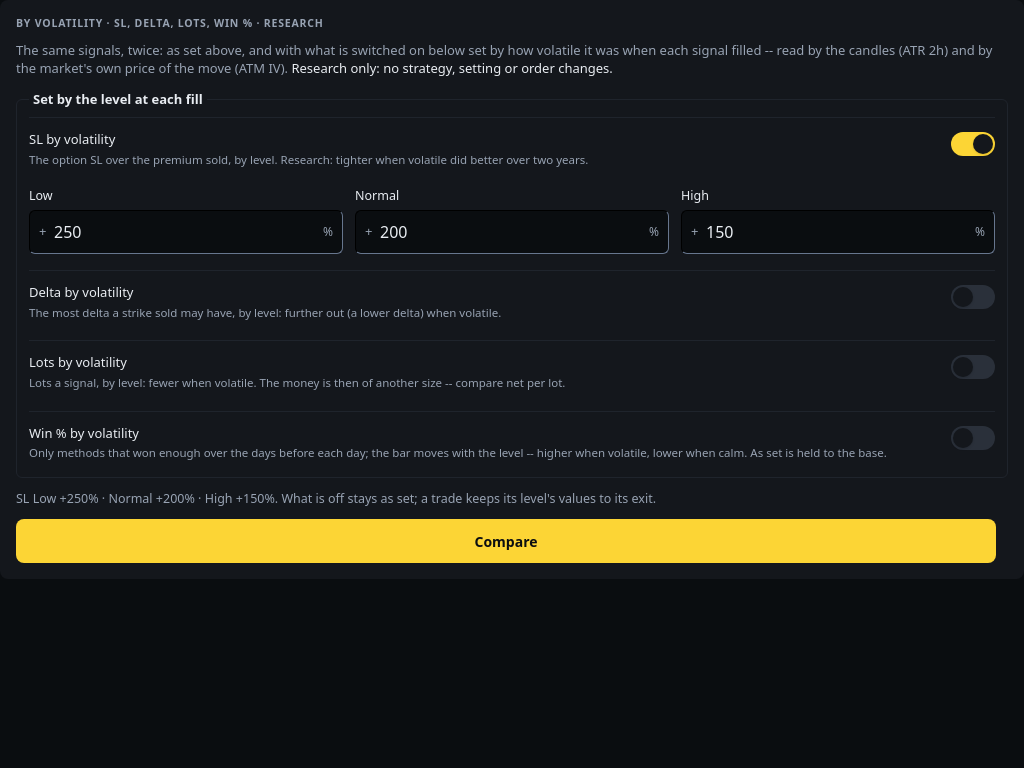
VolStudy › [critical] Compare asks with what is switched on and typed -- what is off is not sent -- and the values are kept in this browser
Replace the text in the number field named "Option SL in high volatility, per cent over the premium" with "120" at (838, 232), box 681,210 -> 995,254
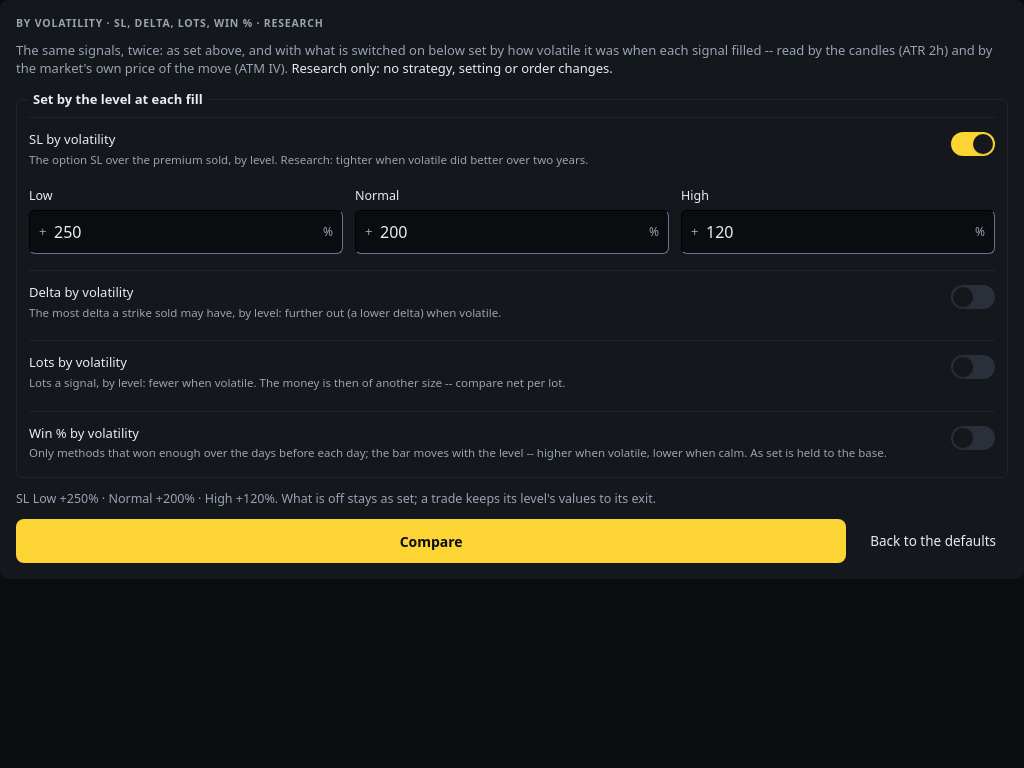
Click the switch named "Lots by volatility" in the row of "Lots by volatility" at (973, 367), box 951,355 -> 995,379
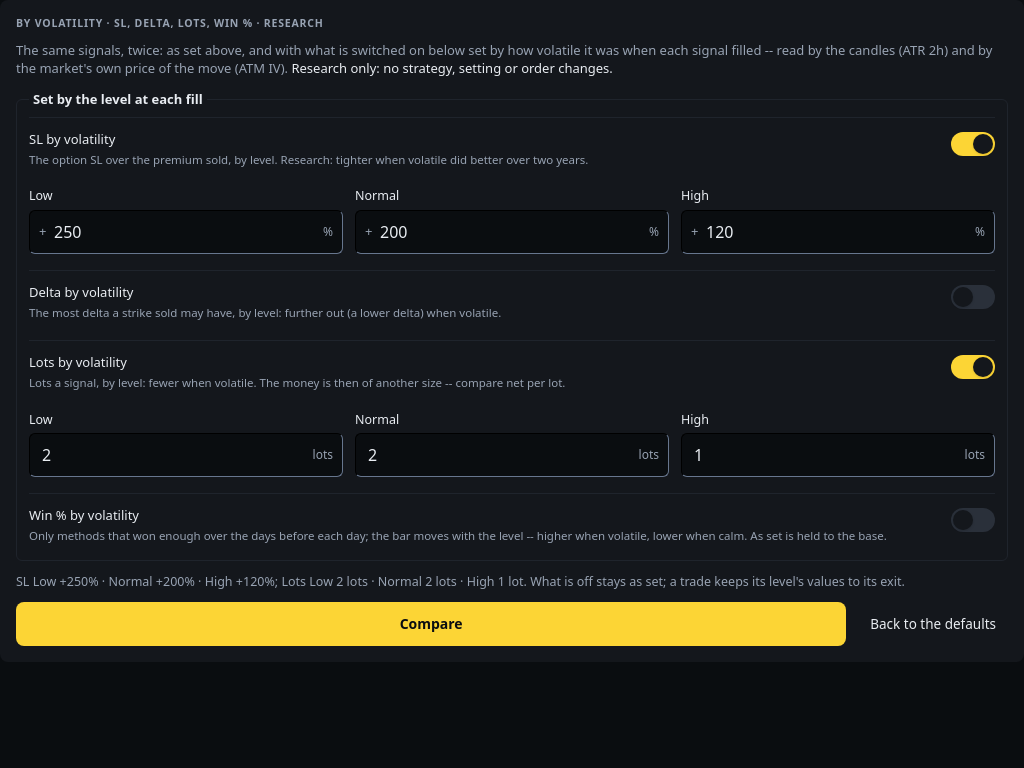
Click the button "Compare" at (431, 624), box 16,602 -> 846,646
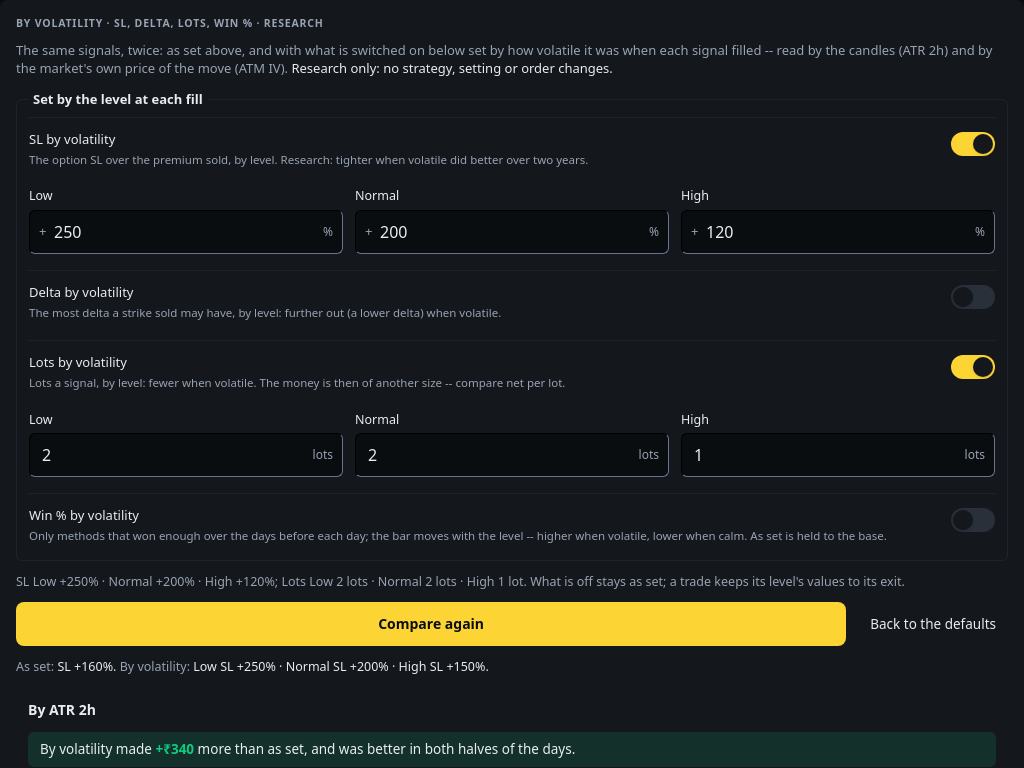
Click the button "Back to the defaults" at (933, 624), box 858,602 -> 1008,646
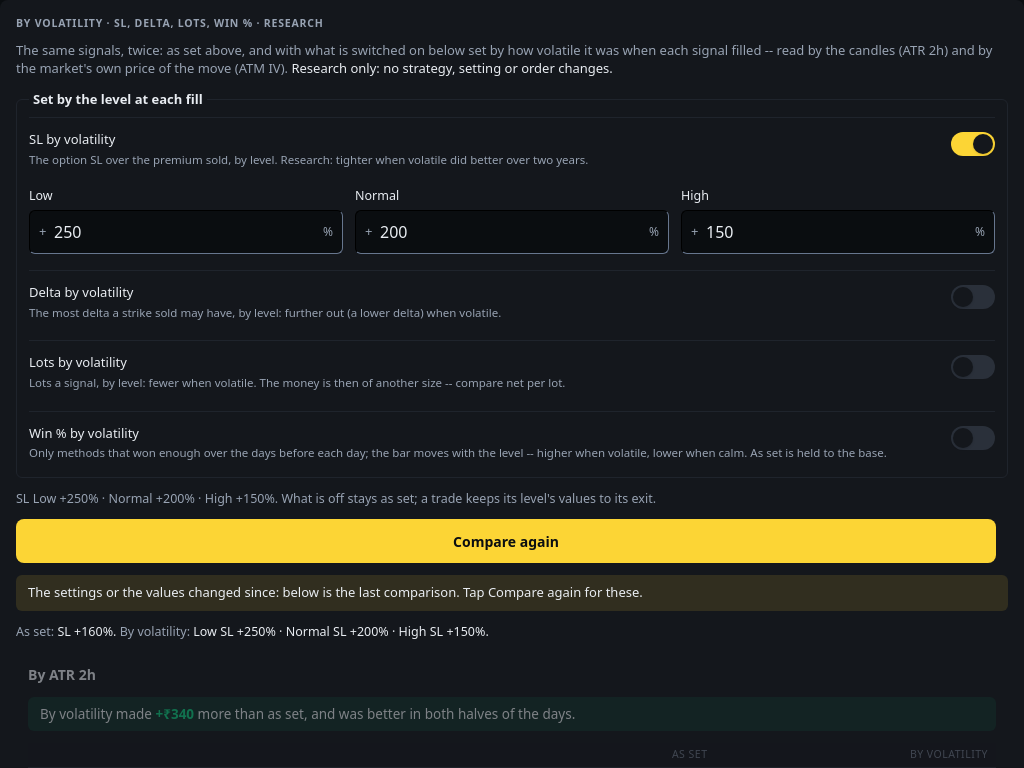
Expected: the number field named "Option SL in high volatility, per cent over the premium" holds "150", 681,210 -> 995,254
